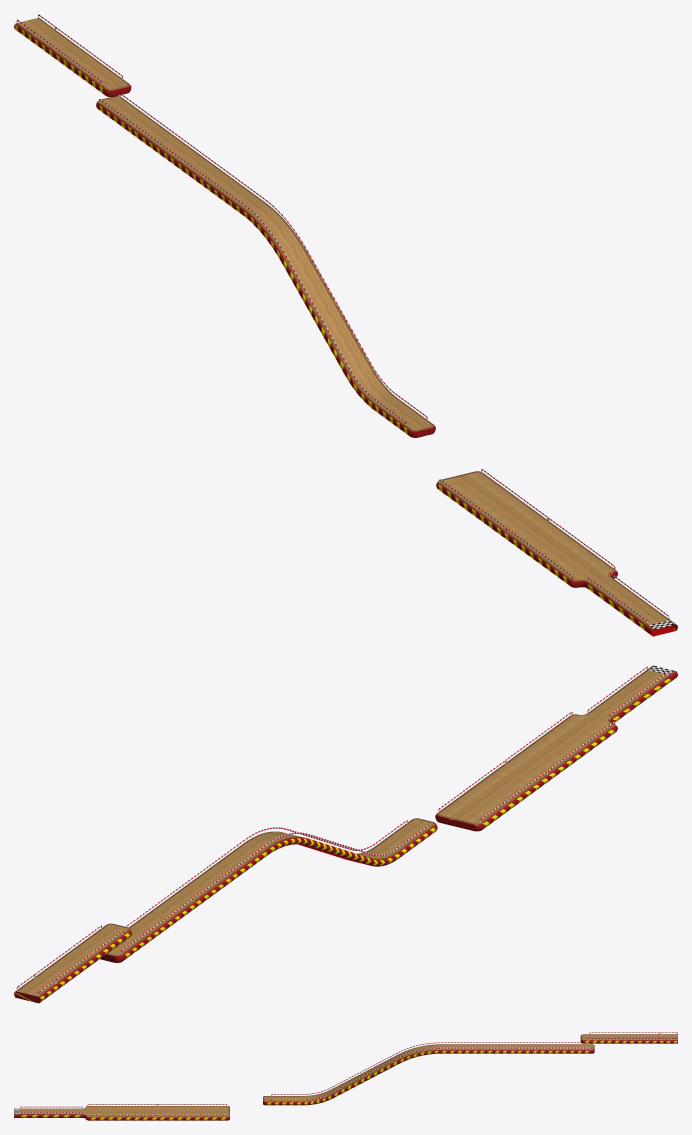
The model's file is map3.fbx.
3 renders of one model, top to bottom at view 1: azimuth 30°, elevation 25°; view 2: azimuth 150°, elevation 25°; view 3: azimuth 270°, elevation 25°, orthographic. The views are drawn at different scales.
Visible parts, largest first — view 1: Terrain_Flat_Wide_Bar_2__1_, Terrain_Flat_Wide_Bar_2, Terrain_Flat_Bar_5, Terrain_CurveDown_Bar_3_2__1_, Terrain_CurveDown_Bar_3_2, Terrain_CurveDown_Bar_3_1, Terrain_CurveDown_Bar_3_3, Terrain_Flat_BarEnd_2__1_, Terrain_Flat_BarEnd_2, Terrain_Flat_Bar_1, Terrain_Flat_Bar_1_1, Terrain_Flat_BarStart_1 (+2 smaller); view 2: Terrain_Flat_Wide_Bar_2, Terrain_Flat_Wide_Bar_2__1_, Terrain_Flat_Bar_5, Terrain_Flat_BarEnd_2, Terrain_Flat_Bar_1, Terrain_Flat_Bar_1__1_, Terrain_Flat_Bar_1_1, Terrain_Flat_BarEnd_2__1_, Terrain_Flat_BarStart_1, Terrain_Flat_BarStart_1__1_, Terrain_CurveDown_Bar_3_1, Dummy_Start_1; view 3: Terrain_Flat_Wide_Bar_2, Terrain_Flat_Wide_Bar_2__1_, Terrain_Flat_Bar_5, Terrain_CurveDown_Bar_3_1, Terrain_Flat_Bar_1__1_, Terrain_Flat_BarStart_1, Terrain_Flat_Bar_1, Terrain_Flat_Bar_1_1, Terrain_Flat_BarEnd_2, Terrain_Flat_BarEnd_2__1_, Terrain_Flat_BarStart_1__1_, Terrain_CurveDown_Bar_3_2 (+3 smaller).
Part boxes in pixels (bbox=[...]): Terrain_Flat_Wide_Bar_2__1_: bbox=[503, 521, 614, 585]; Terrain_Flat_Wide_Bar_2: bbox=[437, 472, 547, 537]; Terrain_Flat_Bar_5: bbox=[585, 576, 670, 630]; Terrain_CurveDown_Bar_3_2__1_: bbox=[313, 309, 370, 373]; Terrain_CurveDown_Bar_3_2: bbox=[282, 254, 339, 318]; Terrain_CurveDown_Bar_3_1: bbox=[241, 203, 307, 262]; Terrain_CurveDown_Bar_3_3: bbox=[344, 365, 396, 408]; Terrain_Flat_BarEnd_2__1_: bbox=[68, 57, 128, 94]; Terrain_Flat_BarEnd_2: bbox=[372, 398, 433, 435]; Terrain_Flat_Bar_1: bbox=[133, 123, 193, 161]; Terrain_Flat_Bar_1_1: bbox=[205, 176, 265, 214]; Terrain_Flat_BarStart_1: bbox=[32, 31, 92, 68]; Terrain_Flat_Wide_Bar_2: bbox=[438, 764, 549, 829]; Terrain_Flat_Wide_Bar_2__1_: bbox=[504, 715, 616, 780]; Terrain_Flat_Bar_5: bbox=[588, 670, 671, 722]; Terrain_Flat_BarEnd_2: bbox=[376, 820, 436, 857]; Terrain_Flat_Bar_1: bbox=[135, 896, 196, 934]; Terrain_Flat_Bar_1__1_: bbox=[171, 870, 232, 907]; Terrain_Flat_Bar_1_1: bbox=[208, 843, 268, 880]; Terrain_Flat_BarEnd_2__1_: bbox=[70, 925, 130, 962]; Terrain_Flat_BarStart_1: bbox=[35, 951, 94, 989]; Terrain_Flat_BarStart_1__1_: bbox=[110, 923, 159, 960]; Terrain_CurveDown_Bar_3_1: bbox=[244, 831, 309, 854]; Dummy_Start_1: bbox=[14, 978, 58, 1003]; Terrain_Flat_Wide_Bar_2: bbox=[158, 1106, 226, 1120]; Terrain_Flat_Wide_Bar_2__1_: bbox=[89, 1106, 157, 1120]; Terrain_Flat_Bar_5: bbox=[20, 1108, 82, 1117]; Terrain_CurveDown_Bar_3_1: bbox=[397, 1044, 440, 1063]; Terrain_Flat_Bar_1__1_: bbox=[478, 1044, 516, 1053]; Terrain_Flat_BarStart_1: bbox=[621, 1034, 659, 1043]; Terrain_Flat_Bar_1: bbox=[516, 1044, 553, 1053]; Terrain_Flat_Bar_1_1: bbox=[441, 1044, 478, 1053]; Terrain_Flat_BarEnd_2: bbox=[266, 1096, 303, 1105]; Terrain_Flat_BarEnd_2__1_: bbox=[584, 1034, 621, 1043]; Terrain_Flat_BarStart_1__1_: bbox=[554, 1044, 591, 1053]; Terrain_CurveDown_Bar_3_2: bbox=[364, 1055, 398, 1080].
Size of the model in its own units: 912 by 2798 by 21175.
6 materials, 5 textured.
